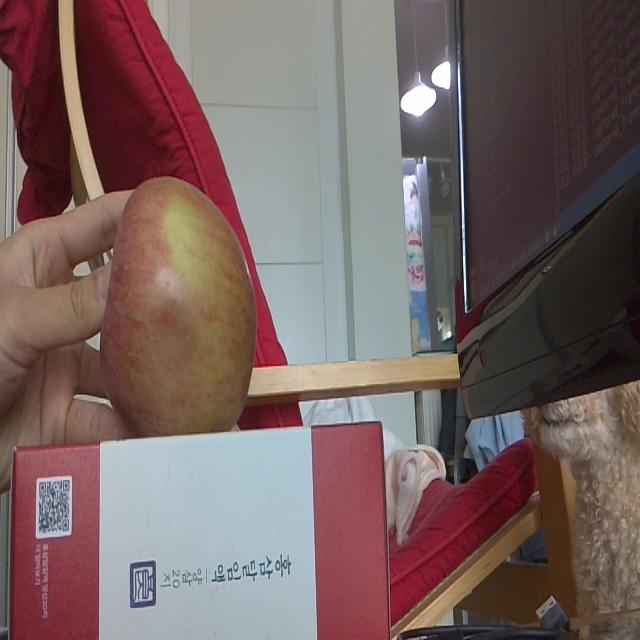apple: (99, 176, 254, 432)
